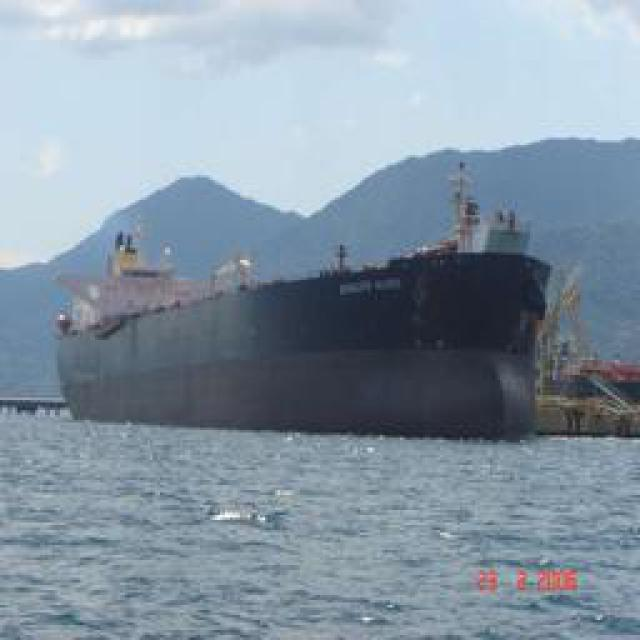Ship: (54, 172, 574, 432)
